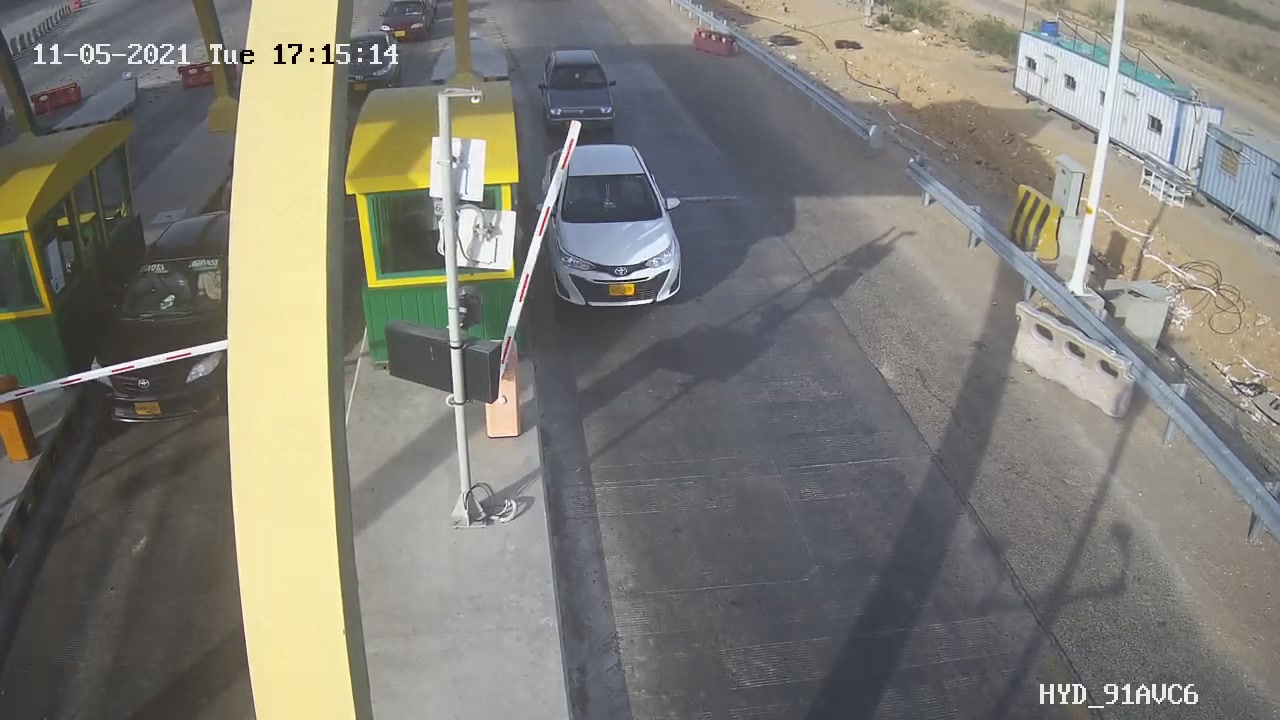F1: (521, 131, 701, 325), (524, 33, 635, 144)
